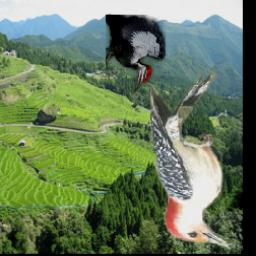Woodpecker: (150, 70, 238, 250), (105, 15, 165, 92)
